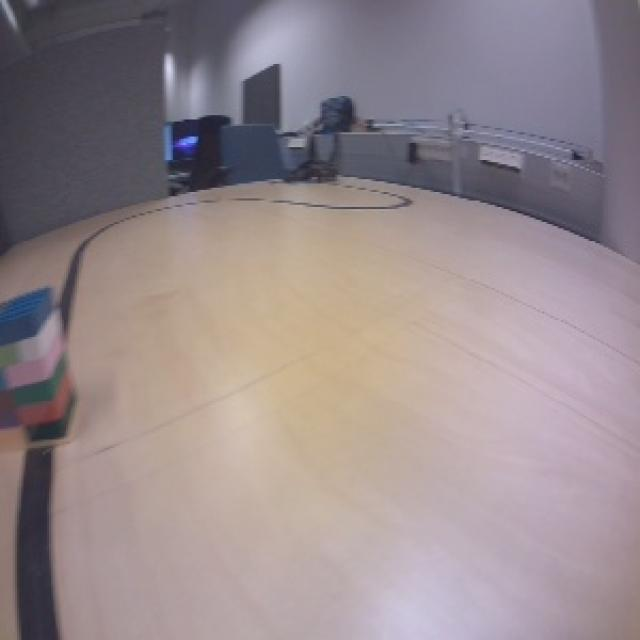obstacle: (1, 282, 84, 458)
